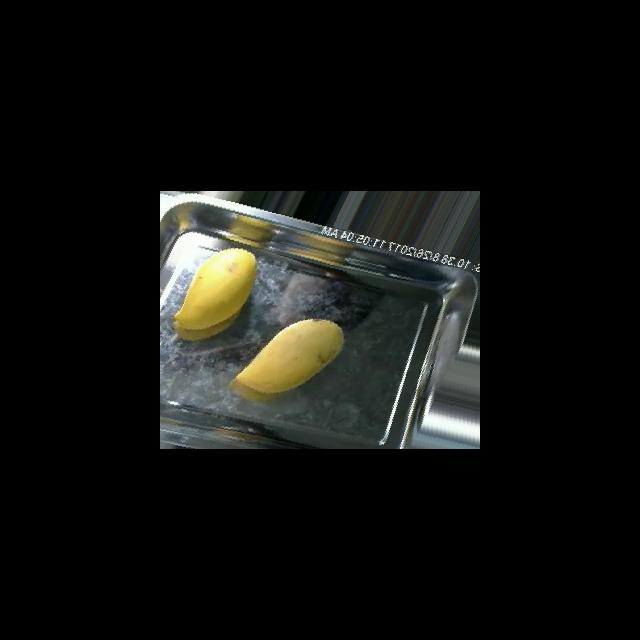mango: (228, 317, 344, 401), (172, 247, 257, 340)
